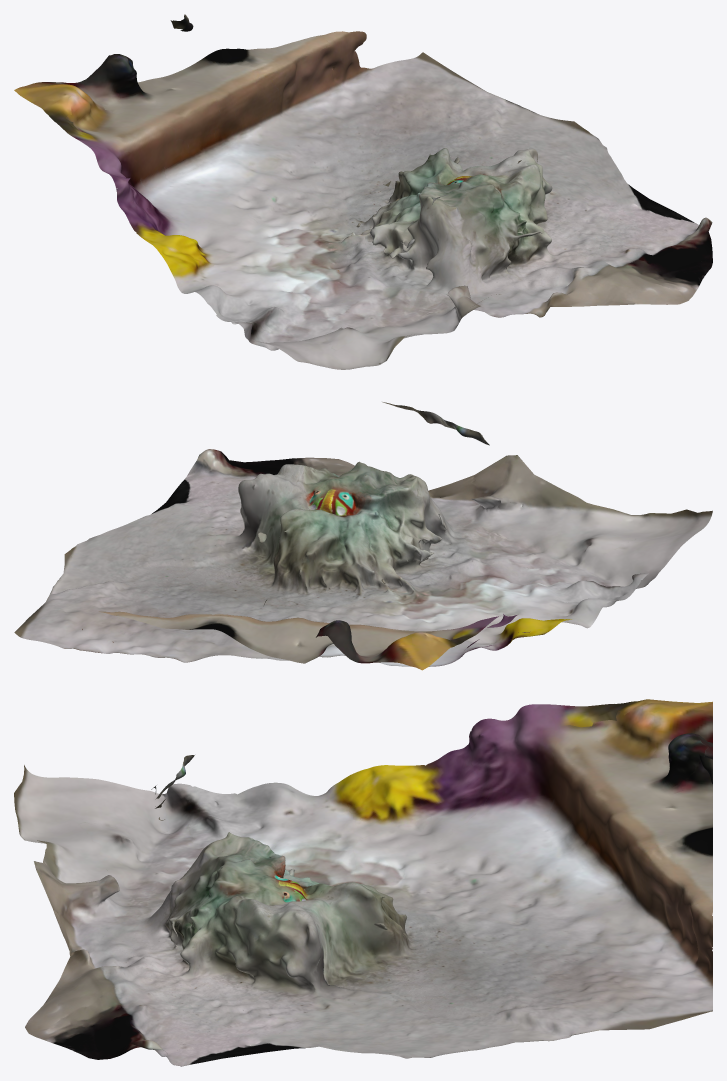
3 renders of one model, top to bottom at view 1: azimuth 30°, elevation 25°; view 2: azimuth 150°, elevation 25°; view 3: azimuth 270°, elevation 25°, orthographic. The views are drawn at different scales.
Bounding box in the file's own units: 2.88 × 0.7857 × 3.18.
1 material, 1 textured.
